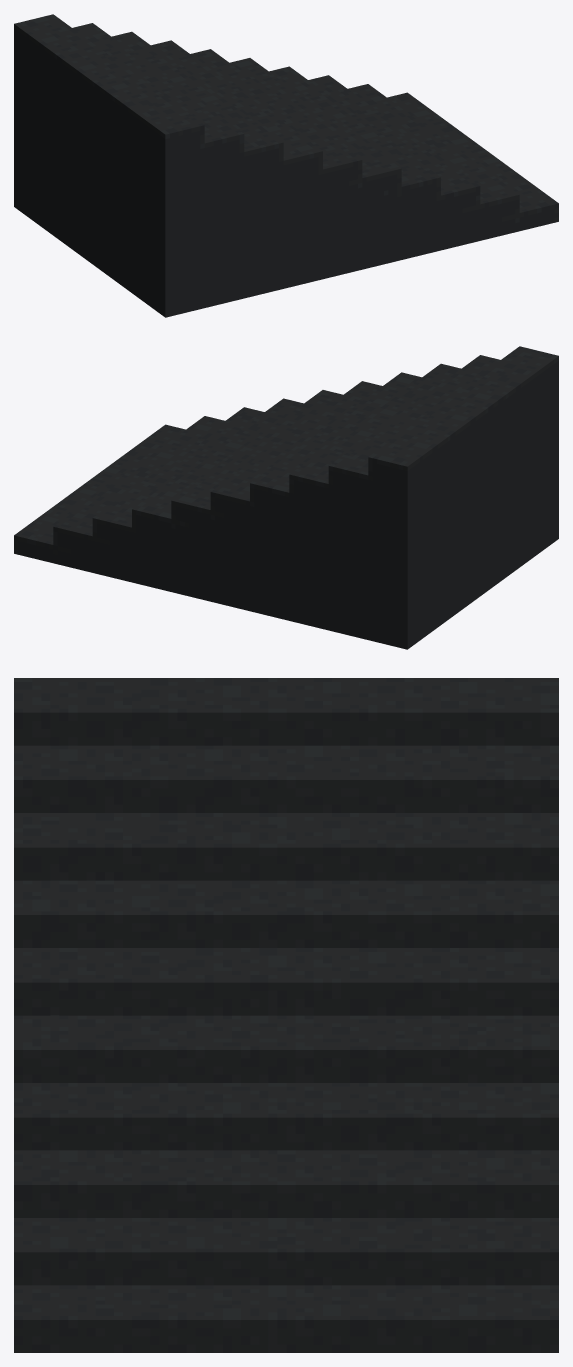
Rendered from Escalera.obj.
3 renders of one model, top to bottom at view 1: azimuth 30°, elevation 25°; view 2: azimuth 150°, elevation 25°; view 3: azimuth 270°, elevation 25°, orthographic. The views are drawn at different scales.
Size of the model in its own units: 9 by 4 by 6.
1 material, 1 textured.
